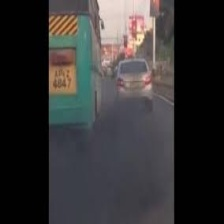smoke: (49, 117, 146, 189)
